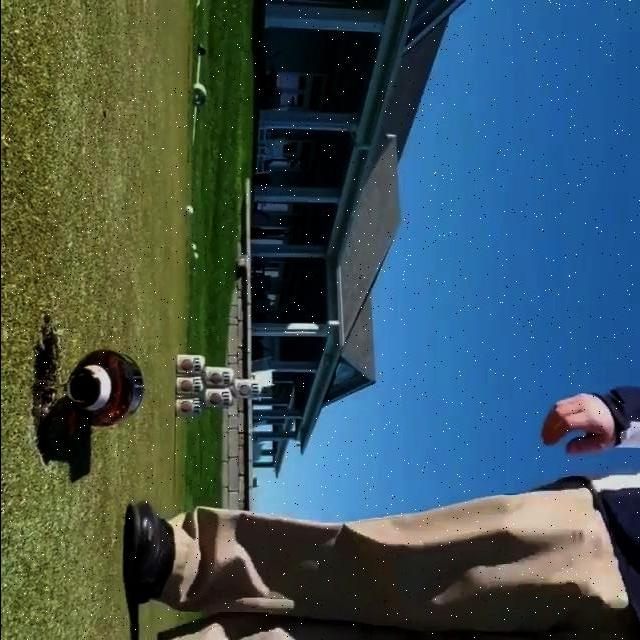GolfBall: (184, 205, 192, 217), (190, 241, 196, 250), (193, 253, 198, 260)
